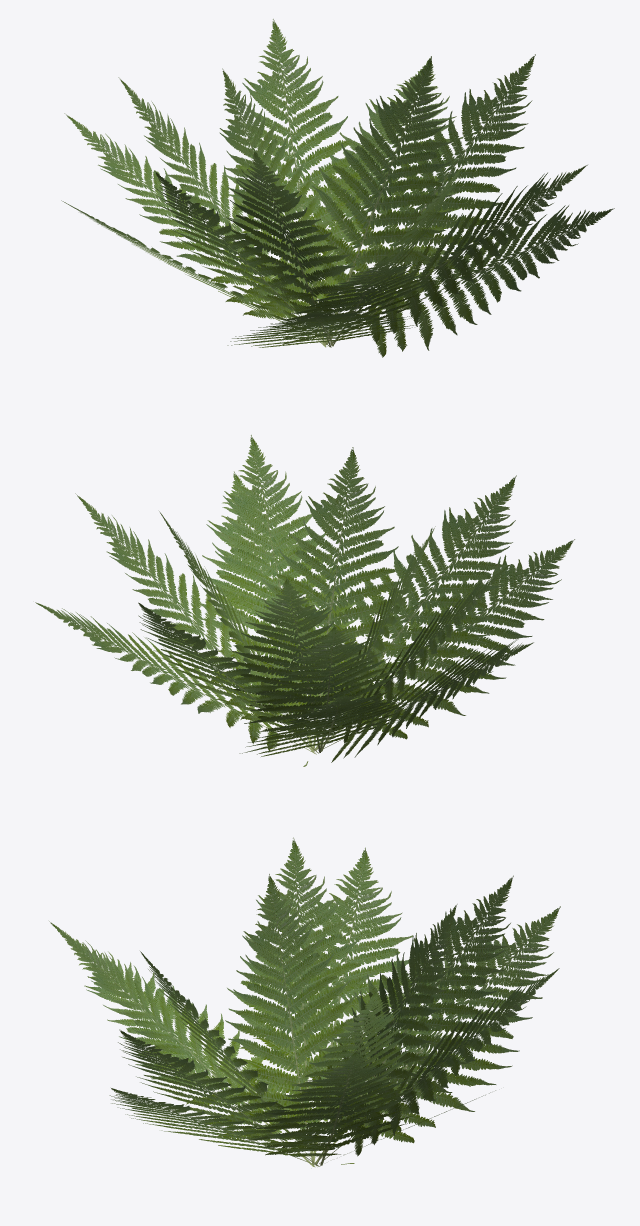
File: Fern01.fbx
3 views of the same model, one above another, from view 1: azimuth 30°, elevation 25°; view 2: azimuth 150°, elevation 25°; view 3: azimuth 270°, elevation 25° (orthographic). The views are drawn at different scales.
Parts seen in each view (by area): view 1: tree; view 2: tree; view 3: tree.
Part boxes in pixels (box(x1,y1,x2,y2)): tree: box(61, 19, 614, 357); tree: box(35, 435, 574, 766); tree: box(49, 837, 560, 1166).
Size of the model in its own units: 113 by 57.04 by 117.
